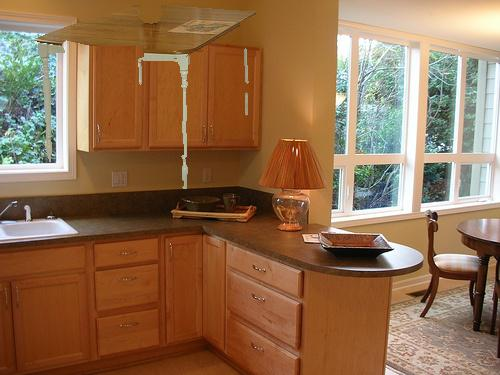tampered: (34, 6, 256, 189)
